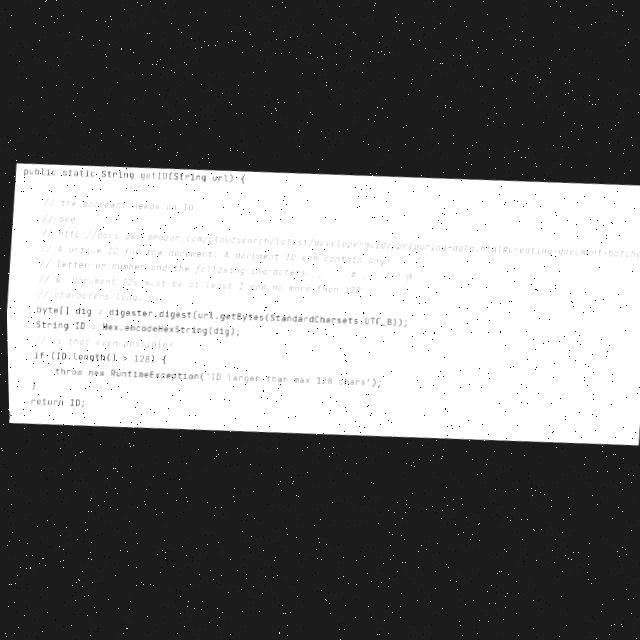code_screen: (7, 163, 640, 443)
